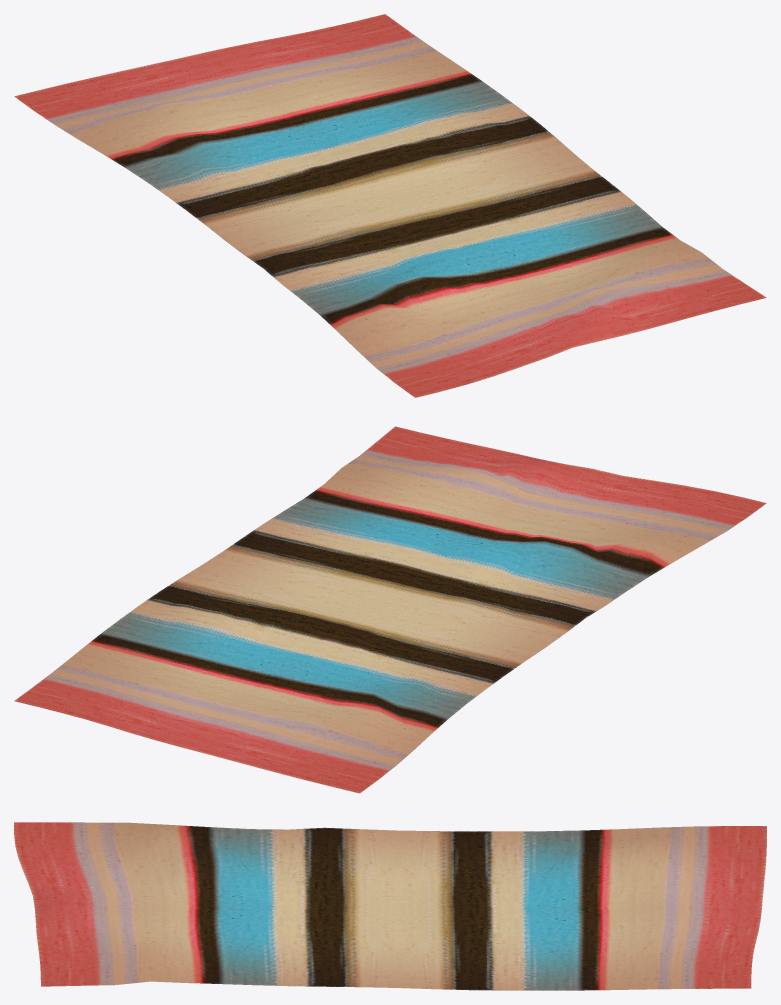
File: assets_carpet.fbx
The picture shows the model from 3 angles, top to bottom: view 1: azimuth 30°, elevation 25°; view 2: azimuth 150°, elevation 25°; view 3: azimuth 270°, elevation 25°; orthographic projection. The views are drawn at different scales.
Parts seen in each view (by area): view 1: assets_carpet; view 2: assets_carpet; view 3: assets_carpet.
Part boxes in pixels (box(x1,y1,x2,y2)): assets_carpet: box(14, 14, 766, 397); assets_carpet: box(14, 426, 766, 793); assets_carpet: box(14, 822, 766, 990).
Bounding box in the file's own units: 22.99 × 0.805 × 43.42.
